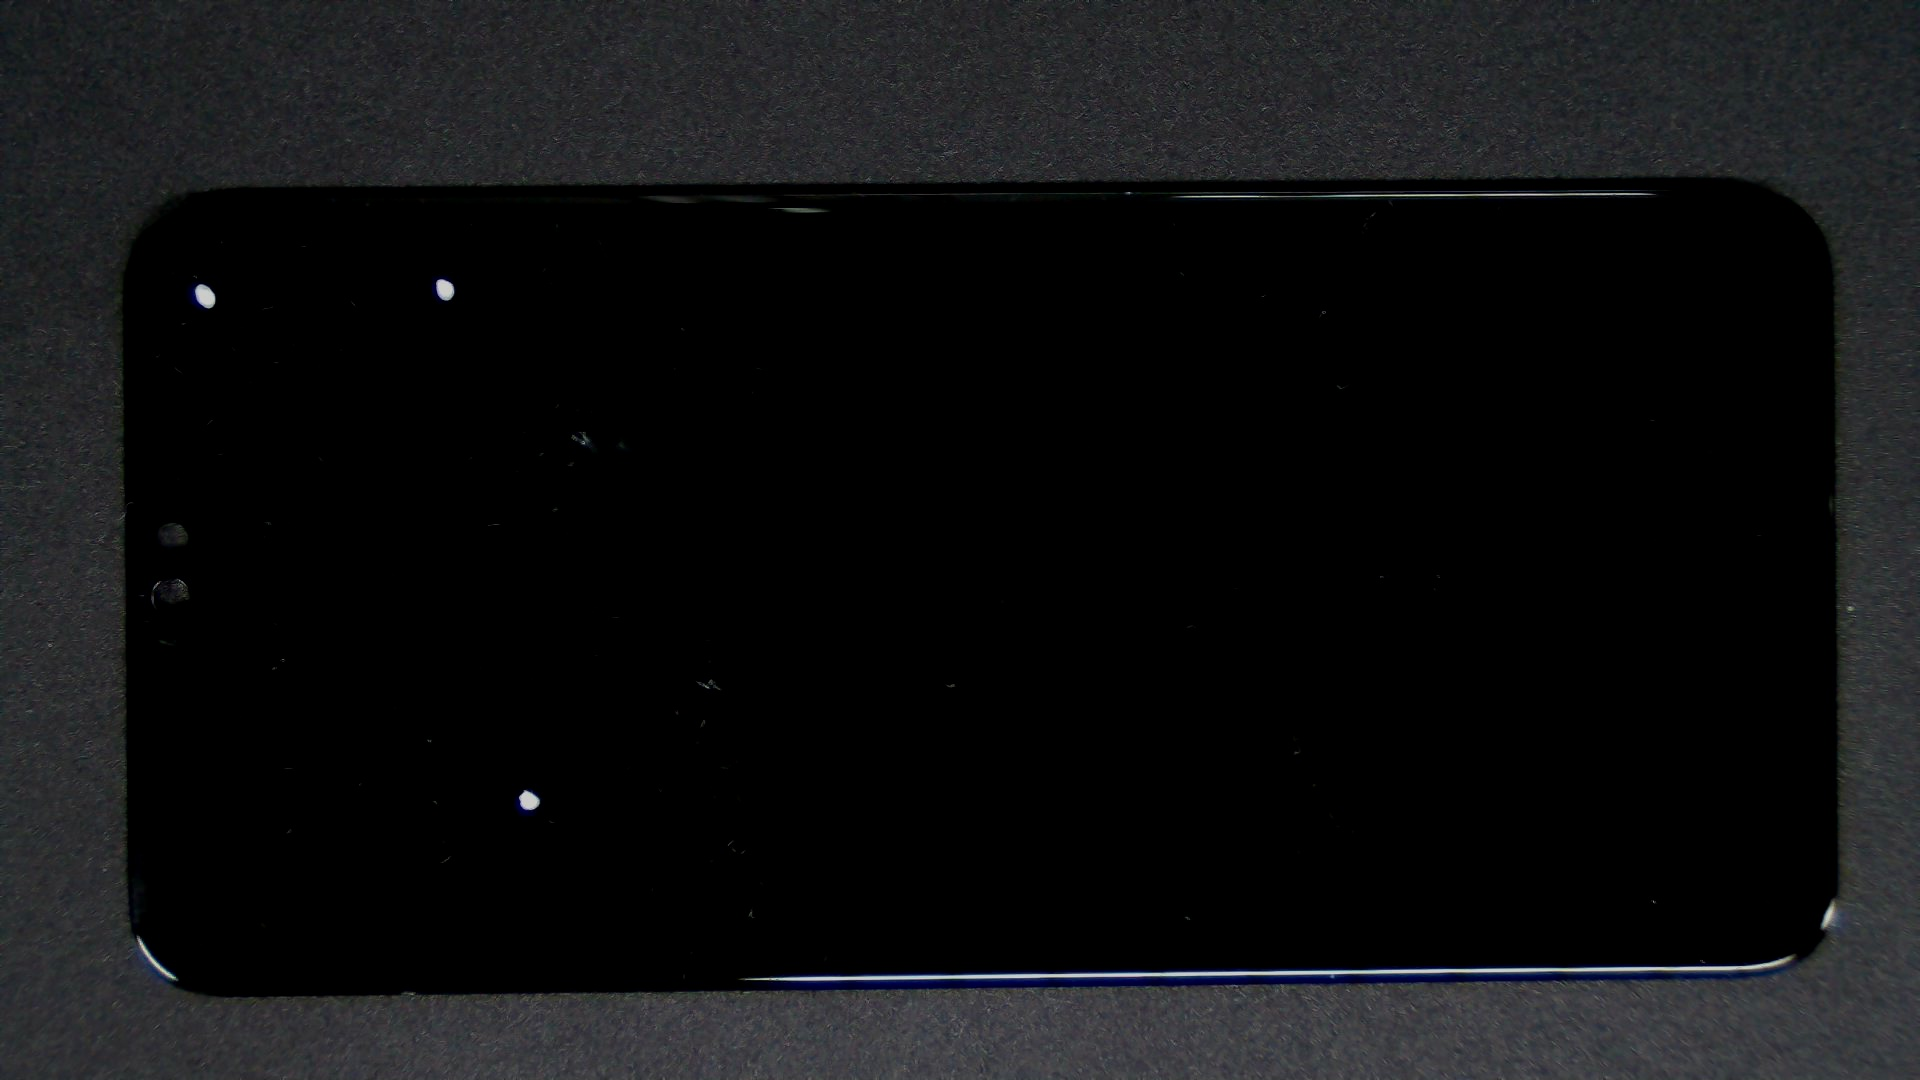oil: (262, 393, 787, 1080), (293, 214, 876, 644), (219, 138, 655, 418), (100, 141, 298, 423)
